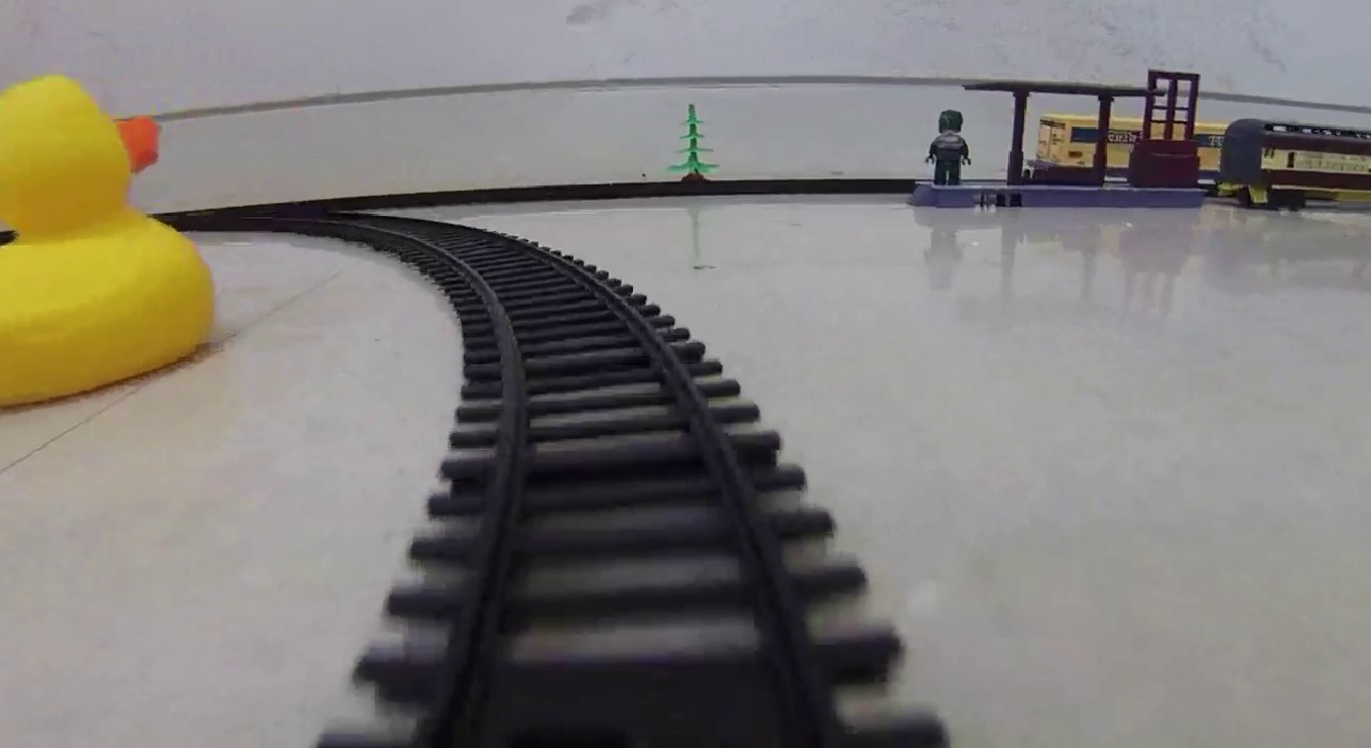people: (924, 109, 975, 186)
tree: (663, 104, 724, 188)
